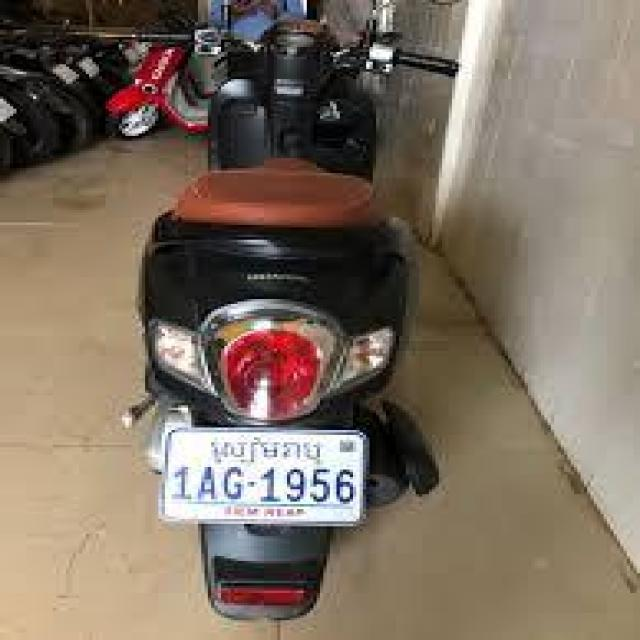Siem_Reap: (208, 438, 323, 464)
